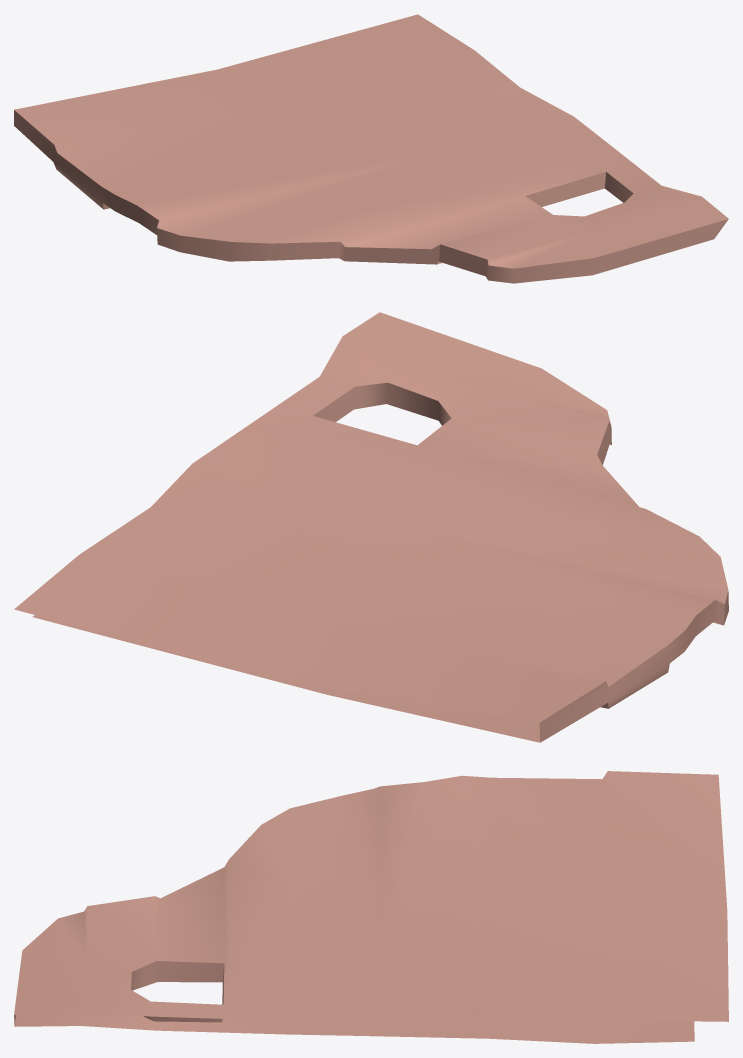
File: floor_2.fbx
3 renders of one model, top to bottom at view 1: azimuth 30°, elevation 25°; view 2: azimuth 150°, elevation 25°; view 3: azimuth 270°, elevation 25°, orthographic. The views are drawn at different scales.
Parts seen in each view (by area): view 1: floor_2; view 2: floor_2; view 3: floor_2.
Boxes of the visible parts, bbox=[...] form: floor_2: bbox=[14, 14, 728, 283]; floor_2: bbox=[14, 312, 728, 742]; floor_2: bbox=[14, 771, 728, 1043].
Bounding box in the file's own units: 329 × 28.49 × 398.
